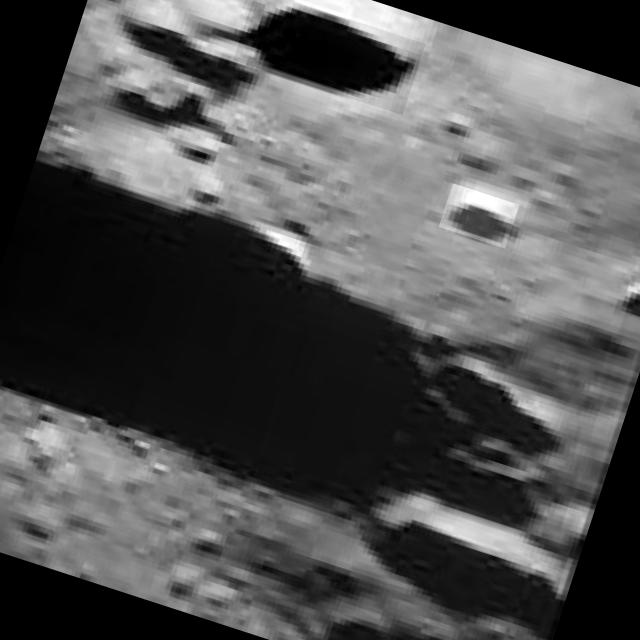crater: (232, 0, 425, 115), (439, 184, 519, 249)
